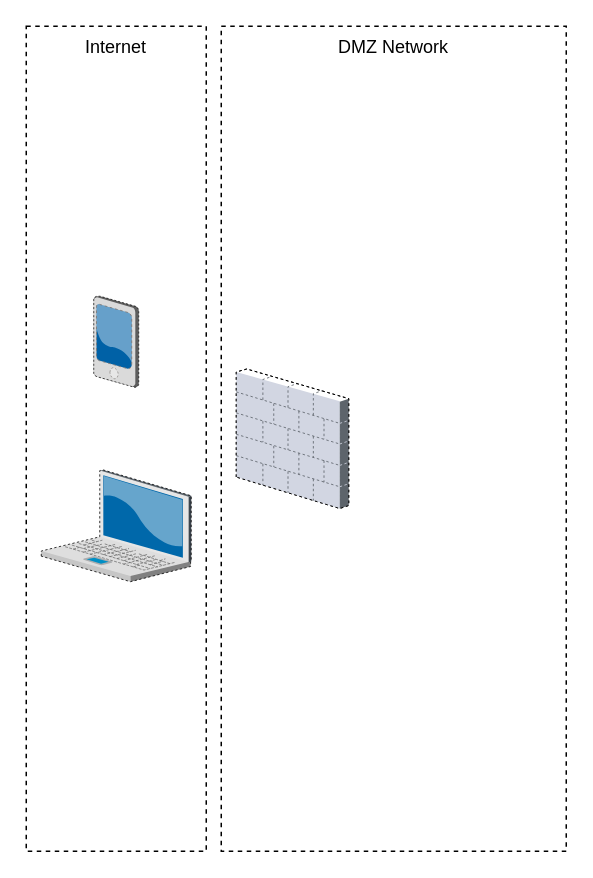
Some shapes in this 593 by 878 pixel diagram are drawn without their labels. The shapes that lost their labels are listed below. From the top down, each one's box as (x1, y1, x2, y2) in pixels, then its label:
(93, 295, 138, 387): Mobile App
(40, 469, 190, 581): Merchant Web Portal
